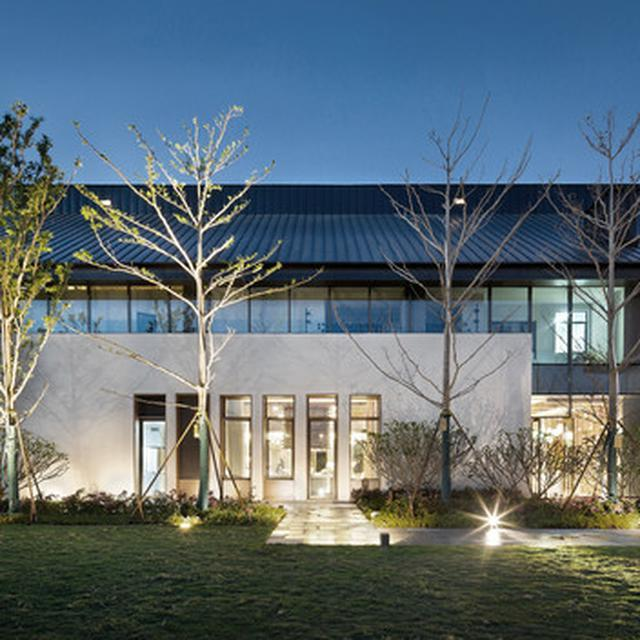building: (4, 174, 640, 501)
